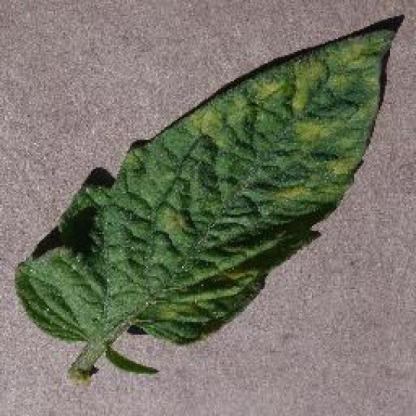Tomato_Leaf_Mold: (20, 30, 395, 338)
